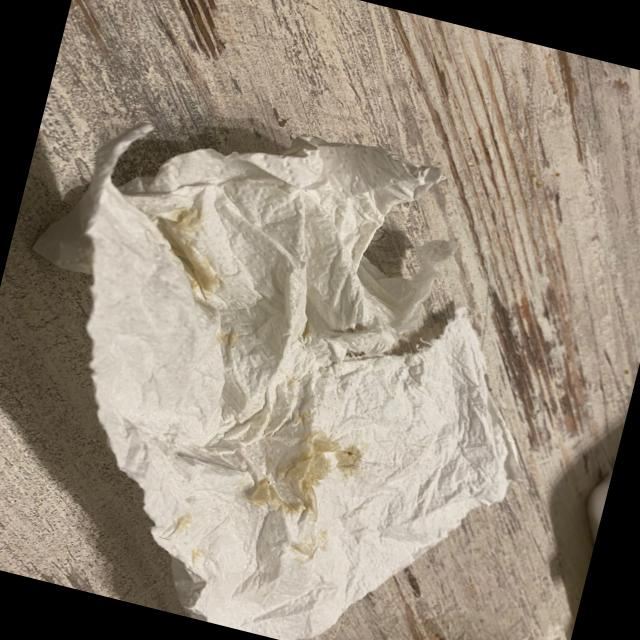organic waste: (0, 69, 588, 640)
